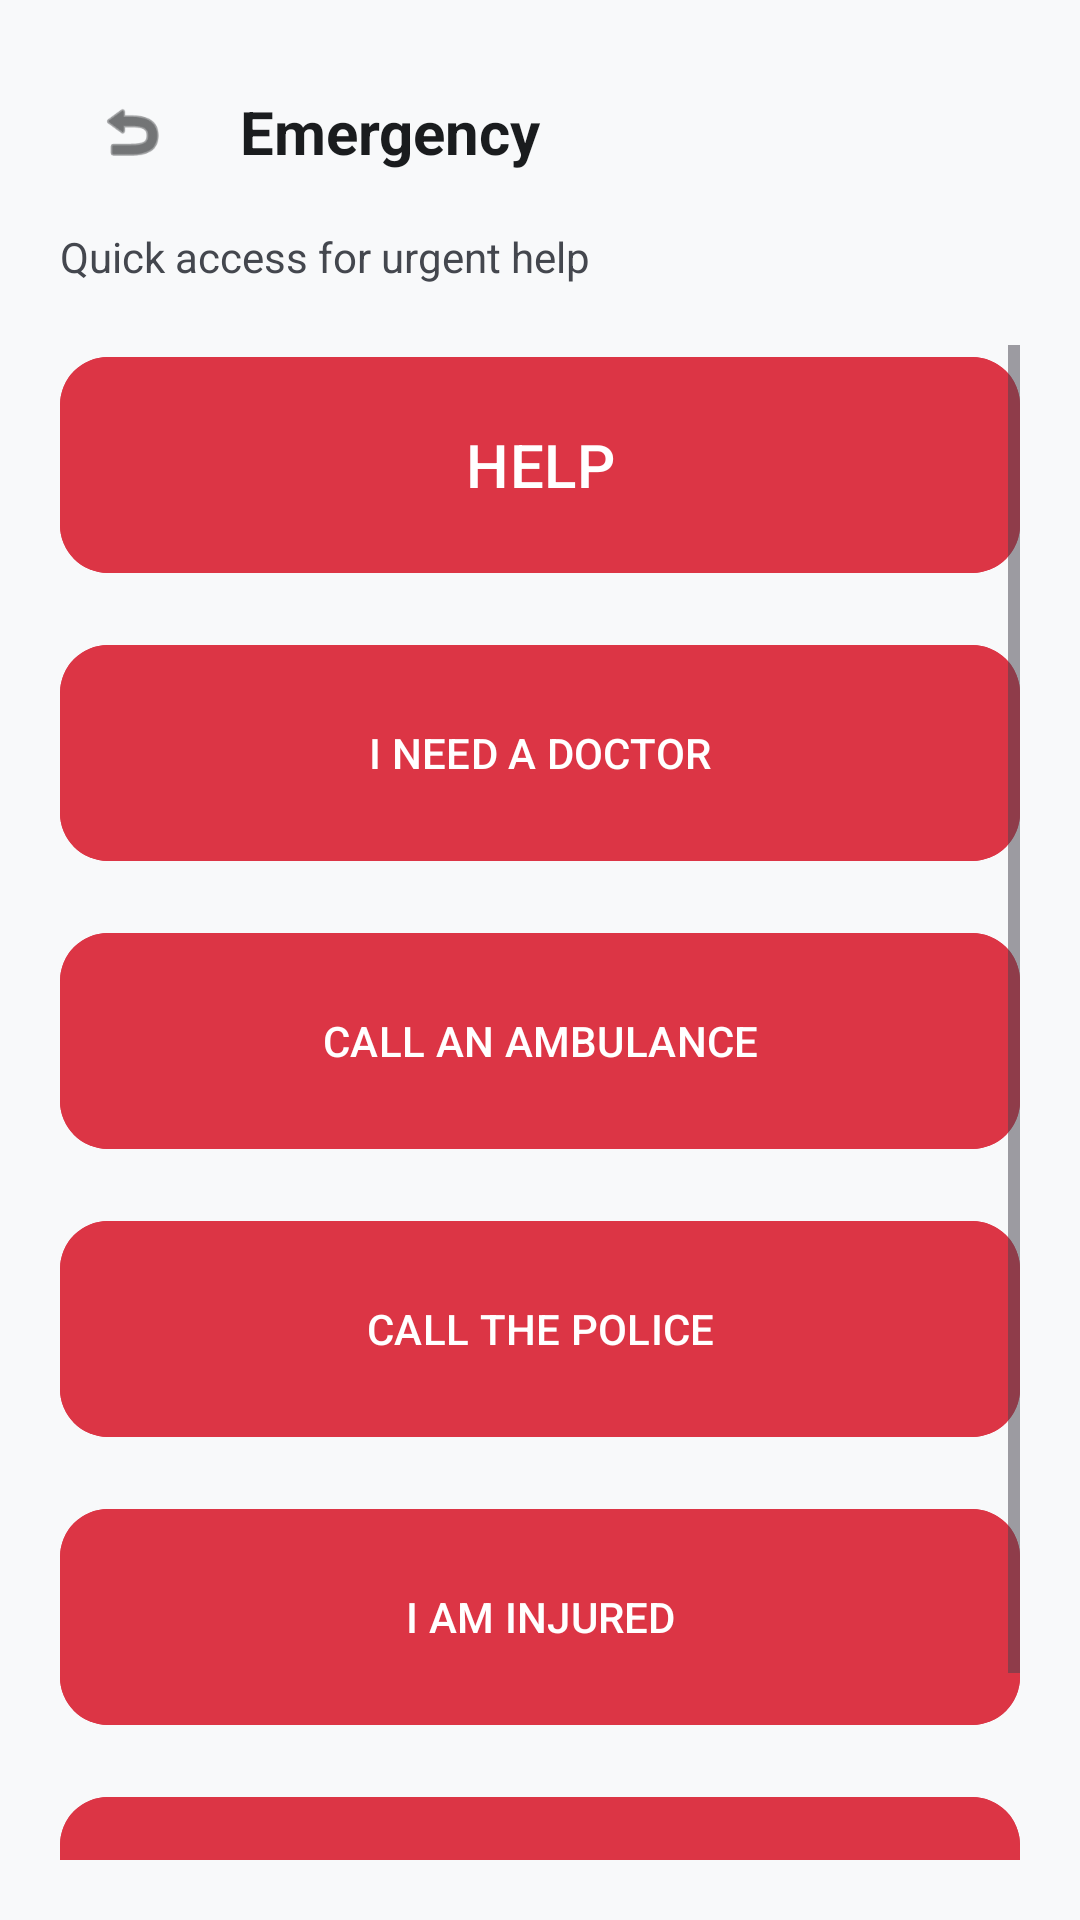

Icons on this 1080 x 1920 Android screen, each with the point to tap as (x=x, y=y):
revert: (x=133, y=132)
